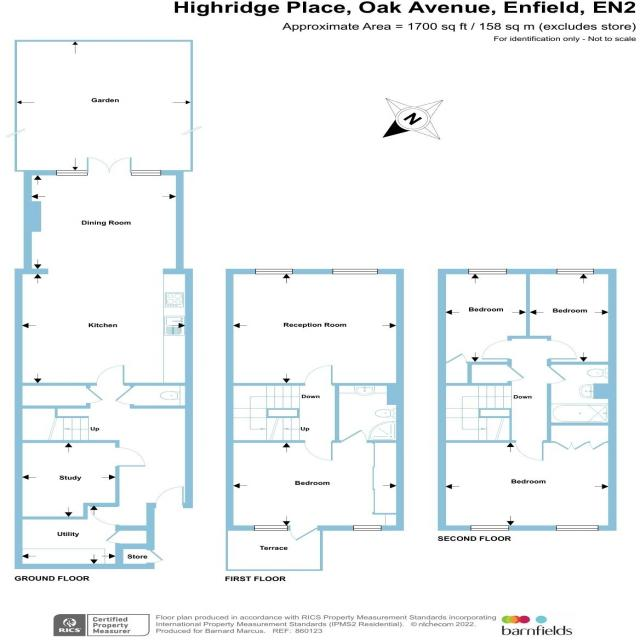DOOR: (479, 339, 514, 361), (302, 364, 335, 387), (513, 439, 545, 462), (114, 446, 147, 468), (546, 339, 579, 361), (94, 364, 126, 386), (155, 485, 184, 509), (303, 439, 334, 461), (88, 506, 120, 526), (288, 525, 319, 542), (546, 365, 567, 386), (113, 386, 135, 406), (340, 429, 369, 444), (85, 387, 105, 404), (506, 365, 526, 382), (441, 351, 467, 364), (146, 550, 164, 564), (104, 531, 120, 544)
DOUBLE DOOR: (85, 154, 133, 177)
ROOM: (14, 157, 194, 386), (225, 268, 404, 387), (225, 428, 405, 543), (437, 440, 618, 531), (14, 440, 148, 520), (525, 268, 618, 365), (438, 269, 530, 365), (14, 502, 124, 569)
WINDOW: (332, 268, 378, 275), (555, 525, 599, 532), (467, 268, 508, 275), (469, 524, 510, 531), (255, 268, 294, 275), (556, 268, 595, 275), (56, 169, 88, 176), (254, 525, 288, 531), (130, 170, 162, 176), (353, 525, 382, 531)
